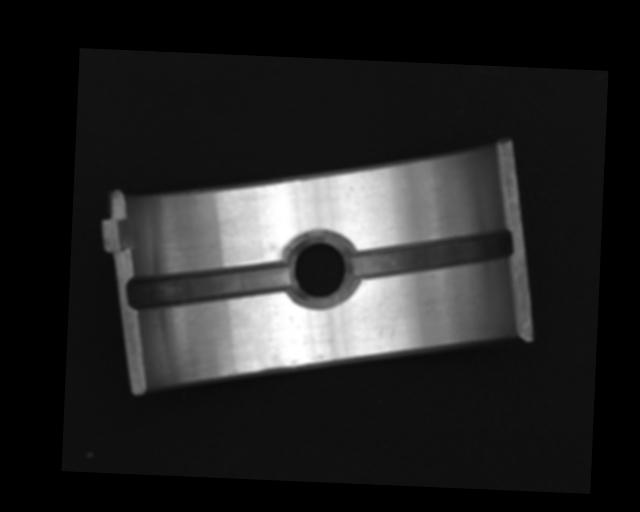gap: (350, 222, 512, 286), (127, 255, 293, 316)
hole: (287, 233, 356, 309)
